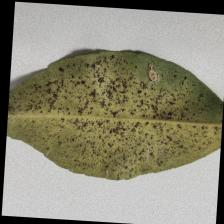canker: (57, 68, 170, 156)
